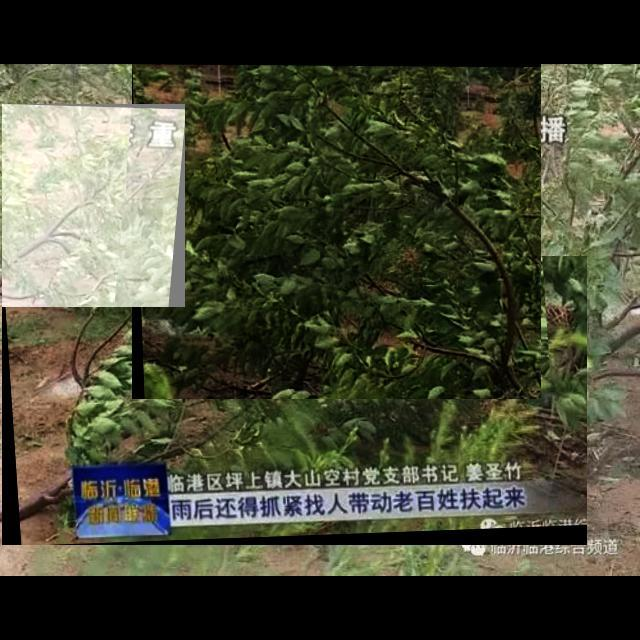fallen_tree: (2, 256, 588, 546), (132, 64, 542, 400), (2, 104, 186, 308)
